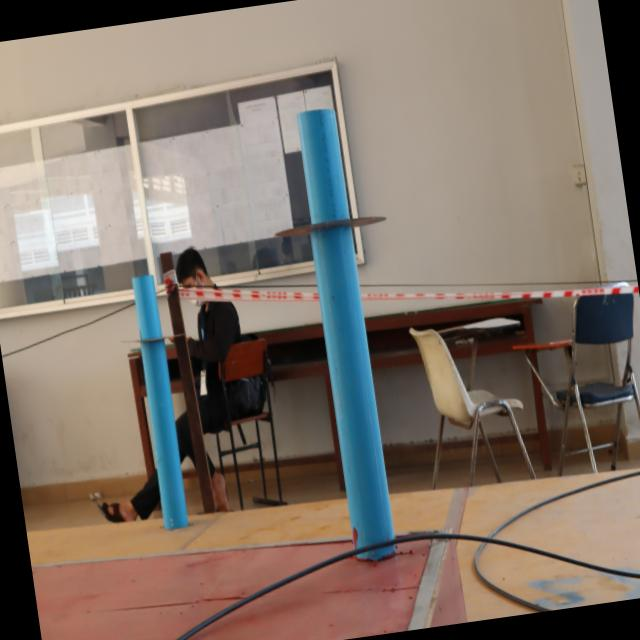pole: (254, 97, 406, 339), (110, 272, 189, 401)
